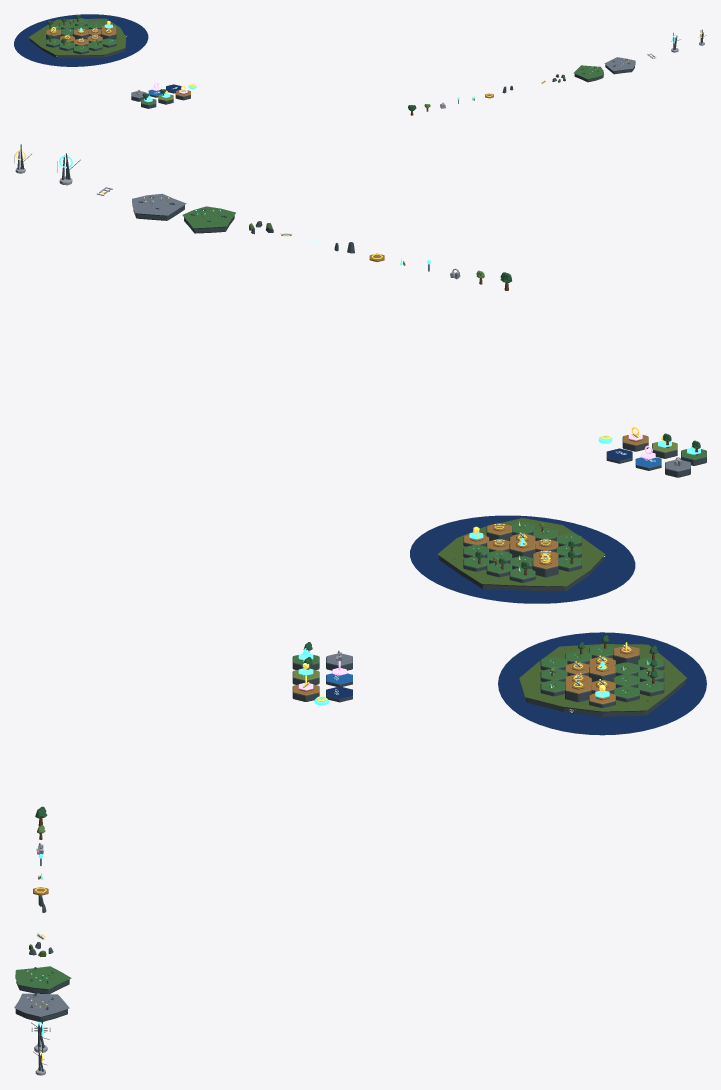
The model's file is CH01_MAP_KIT_R11.glb.
3 views of the same model, one above another, from view 1: azimuth 30°, elevation 25°; view 2: azimuth 150°, elevation 25°; view 3: azimuth 270°, elevation 25° (orthographic). The views are drawn at different scales.
Visible parts, largest first — view 1: MAP_CONTINUOUS_TIDE, MAP_AUTHORED_ISLAND_SHELF, PROP_TERRAIN_RUIN_BED, PROP_TERRAIN_FOREST_BED; view 2: MAP_CONTINUOUS_TIDE, MAP_AUTHORED_ISLAND_SHELF, PROP_TERRAIN_RUIN_BED, PROP_TERRAIN_FOREST_BED; view 3: MAP_CONTINUOUS_TIDE, MAP_AUTHORED_ISLAND_SHELF, PROP_TERRAIN_RUIN_BED, PROP_TERRAIN_FOREST_BED.
Boxes of the visible parts, x1=… form: MAP_CONTINUOUS_TIDE: x1=14, y1=14, x2=148, y2=66; MAP_AUTHORED_ISLAND_SHELF: x1=28, y1=18, x2=125, y2=58; PROP_TERRAIN_RUIN_BED: x1=604, y1=57, x2=635, y2=74; PROP_TERRAIN_FOREST_BED: x1=573, y1=65, x2=604, y2=82; MAP_CONTINUOUS_TIDE: x1=410, y1=515, x2=635, y2=603; MAP_AUTHORED_ISLAND_SHELF: x1=437, y1=518, x2=605, y2=591; PROP_TERRAIN_RUIN_BED: x1=132, y1=193, x2=186, y2=220; PROP_TERRAIN_FOREST_BED: x1=182, y1=206, x2=235, y2=233; MAP_CONTINUOUS_TIDE: x1=498, y1=632, x2=706, y2=735; MAP_AUTHORED_ISLAND_SHELF: x1=519, y1=644, x2=686, y2=716; PROP_TERRAIN_RUIN_BED: x1=14, y1=993, x2=69, y2=1022; PROP_TERRAIN_FOREST_BED: x1=15, y1=966, x2=71, y2=993.
Size of the model in its own units: 67.88 by 2.81 by 44.43.
